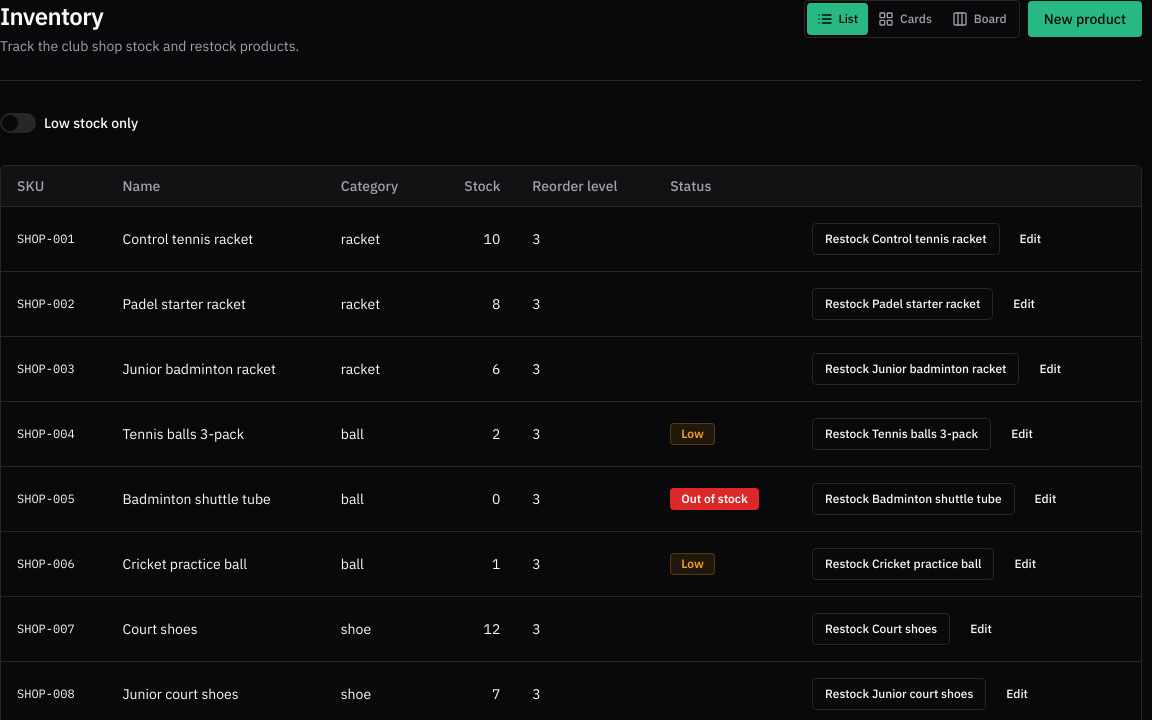
inventory › filters low stock and sends validated restock quantities
This screenshot has width=1152, height=720.
Step 1. Click the switch named "Low stock only" → (18,123), box [0,113,36,133]
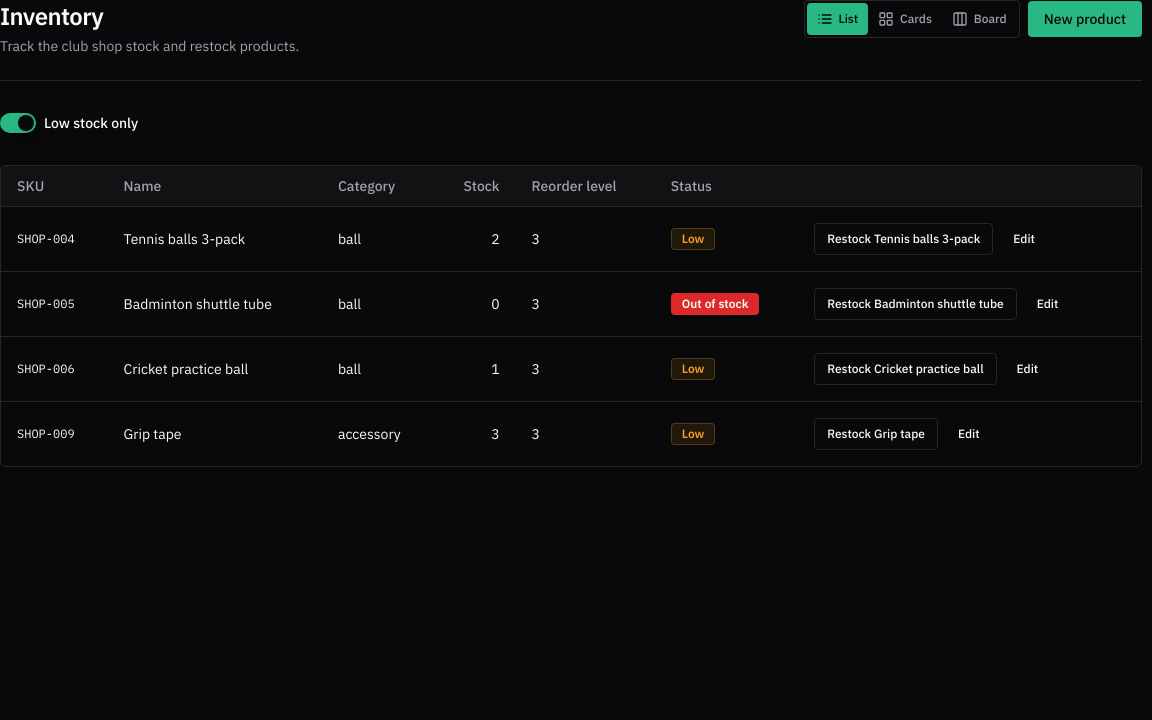
Expected: the number of rows is 5, [1,166,1141,206]; [1,206,1141,271]; [1,271,1141,336]; [1,336,1141,401]; [1,401,1141,466]
Step 2. Click the button "Restock Tennis balls 3-pack" → (904,238), box [814,222,993,254]
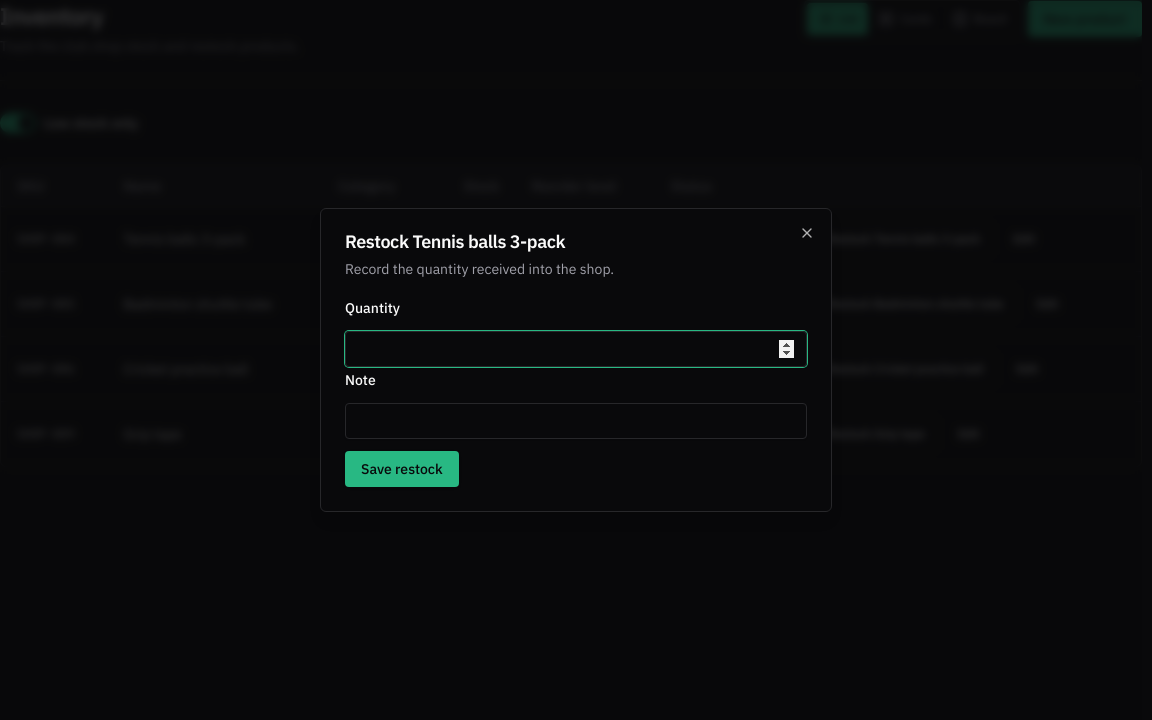
Step 3. Type "5" into the number field labelled "Quantity" → (576,349), box [345,331,807,367]
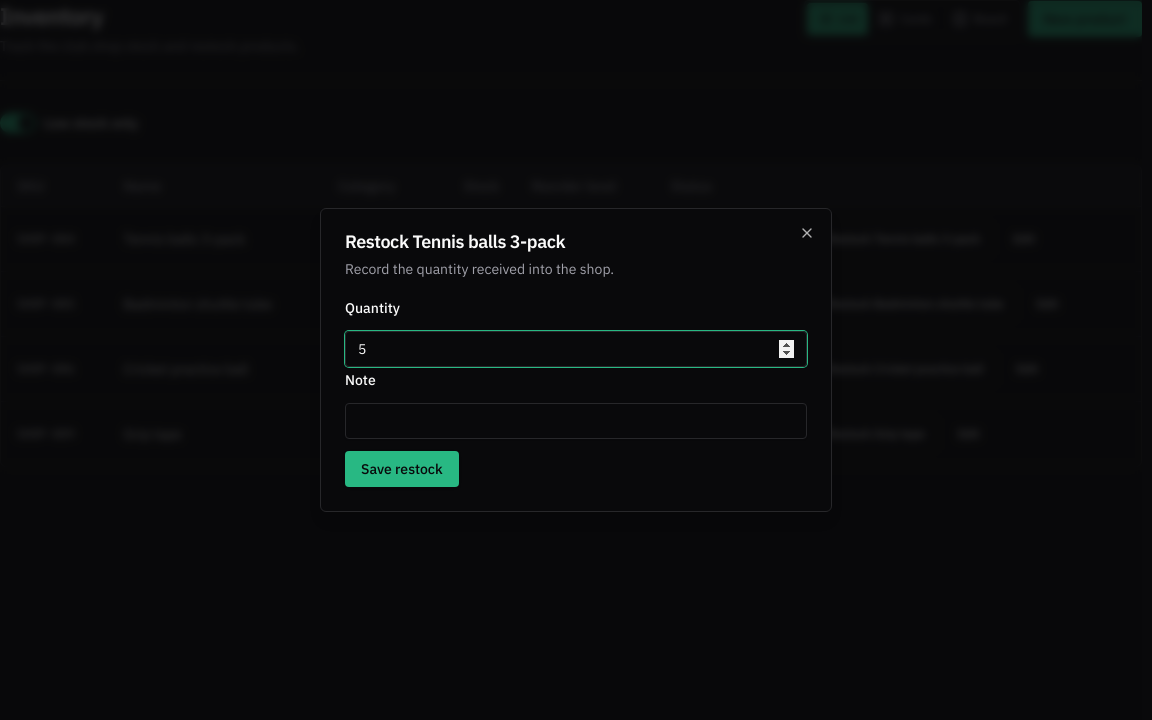
Step 4. Type "Received today" into the field labelled "Note" → (576,421), box [345,403,807,439]
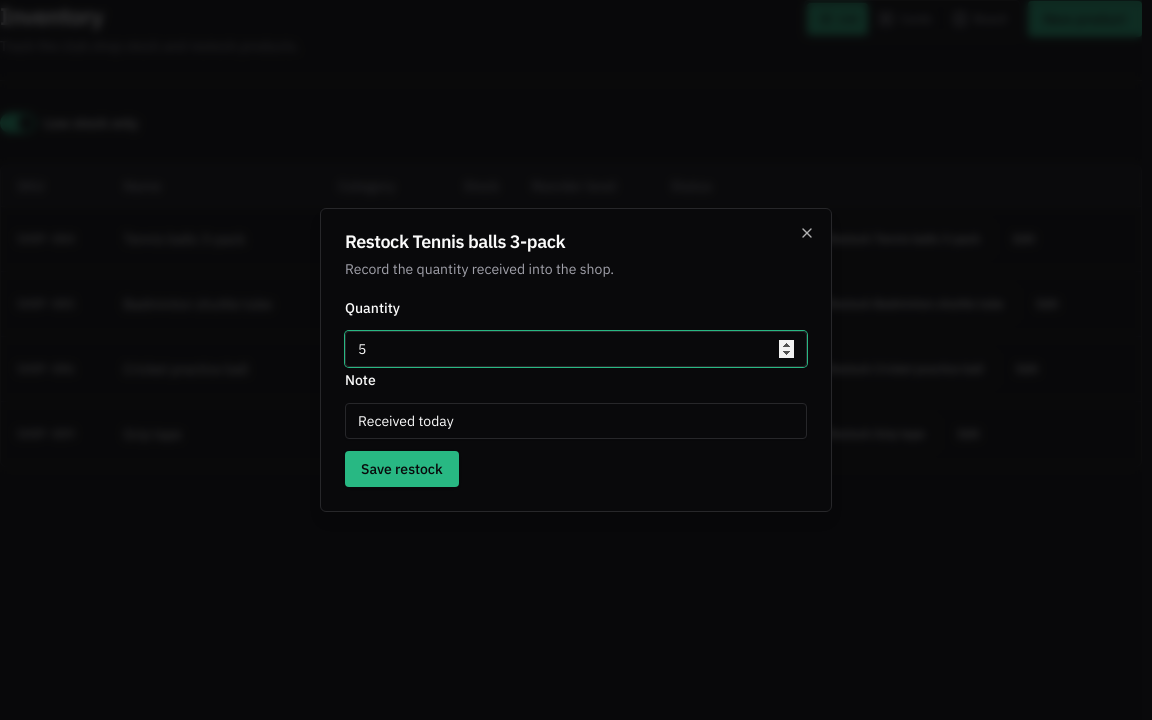
Step 5. Click the button "Save restock" → (402,469), box [345,451,459,487]
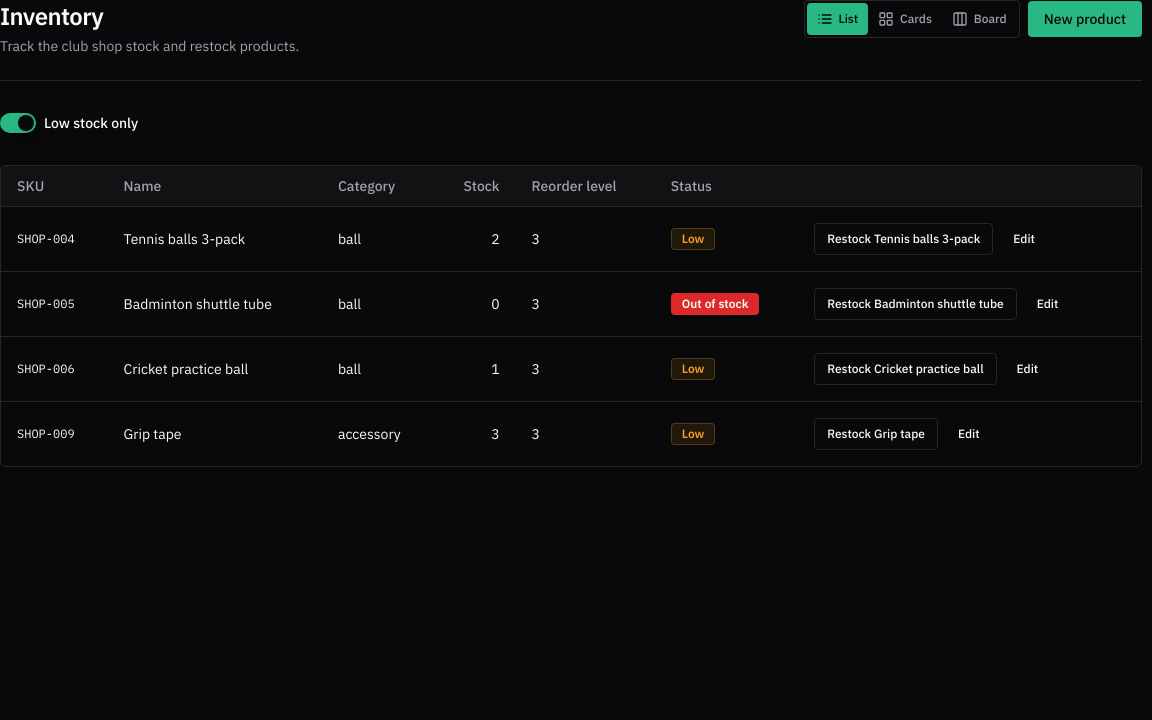
Expected: the dialog is gone
